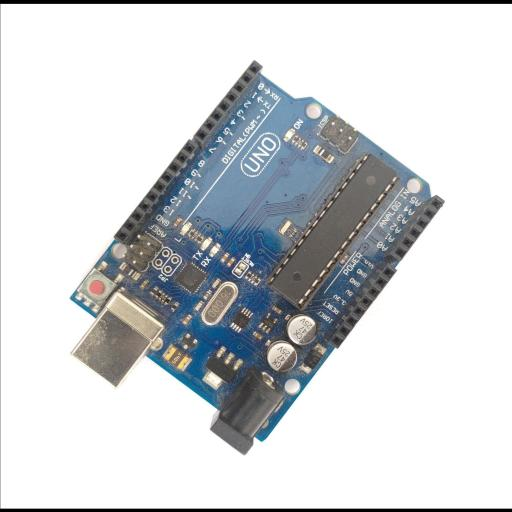Arduino Uno R3: (68, 58, 445, 456)
